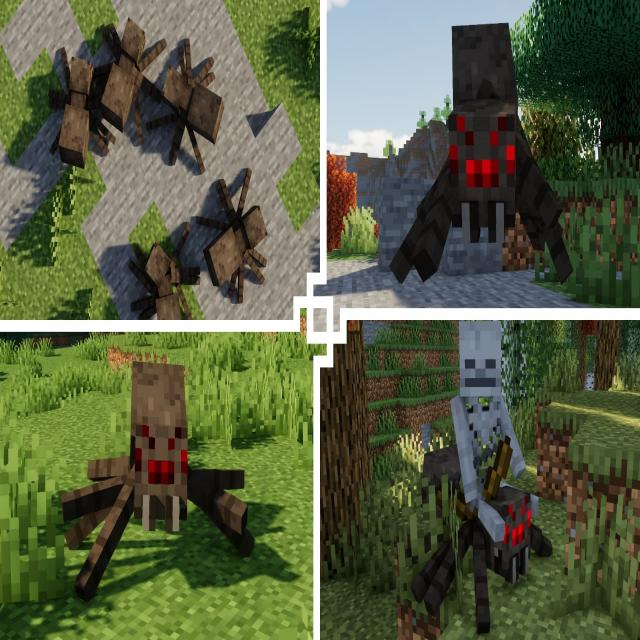Spider: (388, 20, 572, 287), (62, 360, 251, 606), (410, 441, 552, 634), (149, 38, 225, 177), (195, 167, 269, 303), (100, 15, 166, 144), (46, 47, 109, 168), (127, 222, 199, 322)
